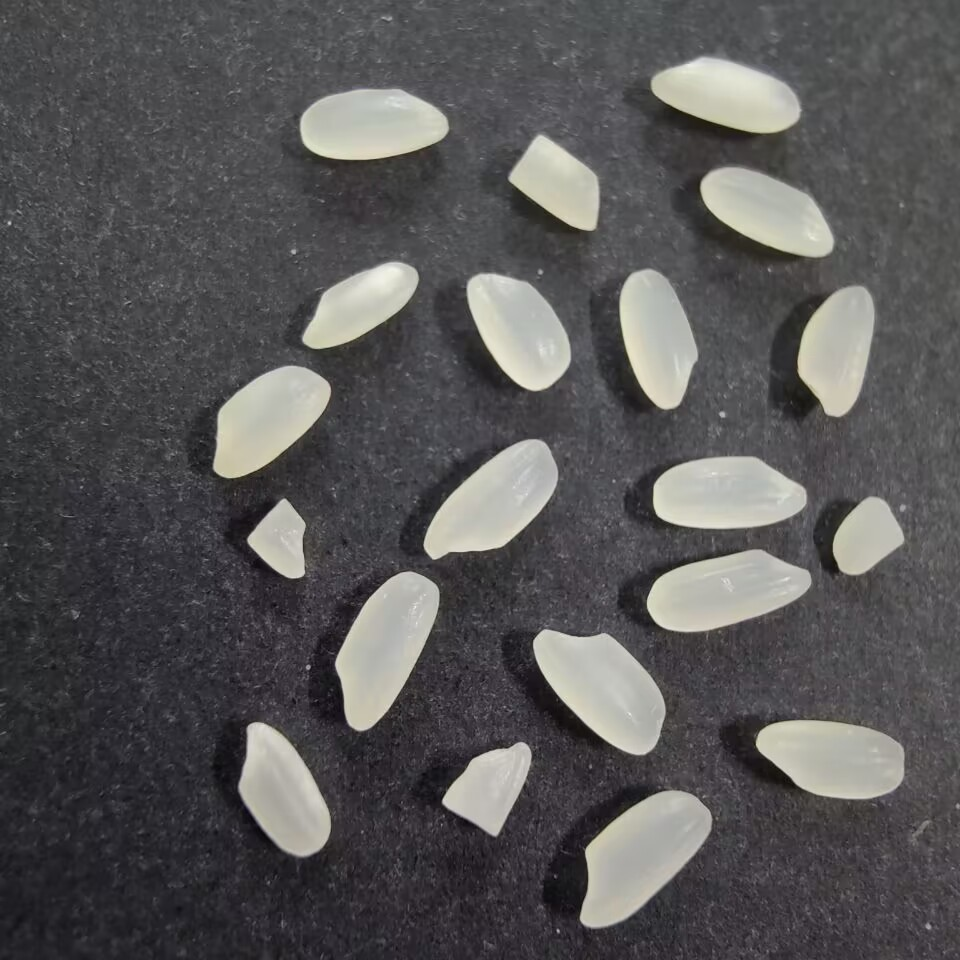broken: (503, 132, 607, 235), (438, 739, 534, 841), (830, 493, 908, 580), (240, 495, 312, 585)
rice: (572, 788, 716, 935), (530, 622, 669, 761), (334, 568, 445, 731), (419, 436, 561, 561), (207, 362, 333, 483), (645, 547, 816, 636), (461, 268, 577, 395), (235, 720, 336, 861), (697, 161, 837, 261), (750, 717, 910, 802), (647, 452, 814, 533), (294, 80, 454, 164), (616, 264, 704, 411), (646, 51, 802, 133), (296, 257, 419, 354), (794, 282, 876, 427)
